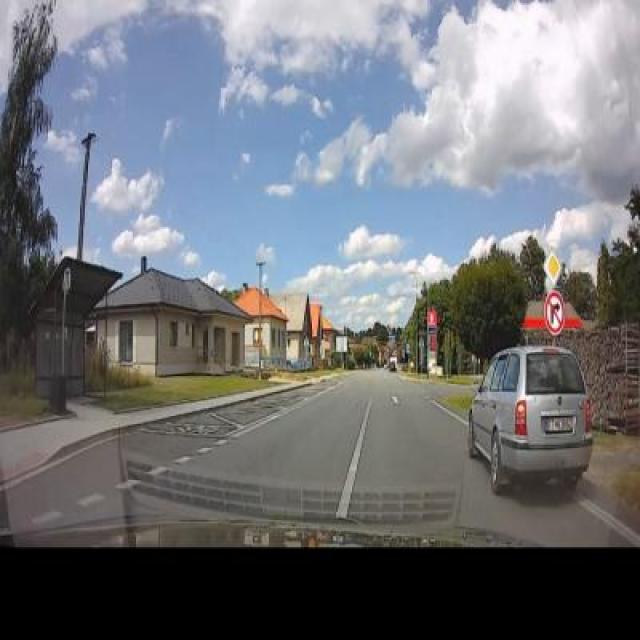clear-road: (200, 374, 472, 524)
